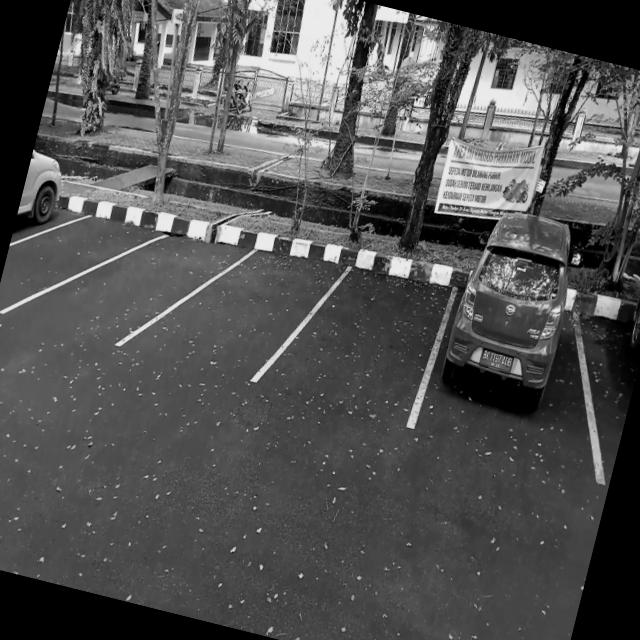car: (421, 269, 596, 467)
free: (281, 248, 454, 433), (177, 224, 327, 396), (79, 208, 208, 368), (7, 183, 122, 333)
